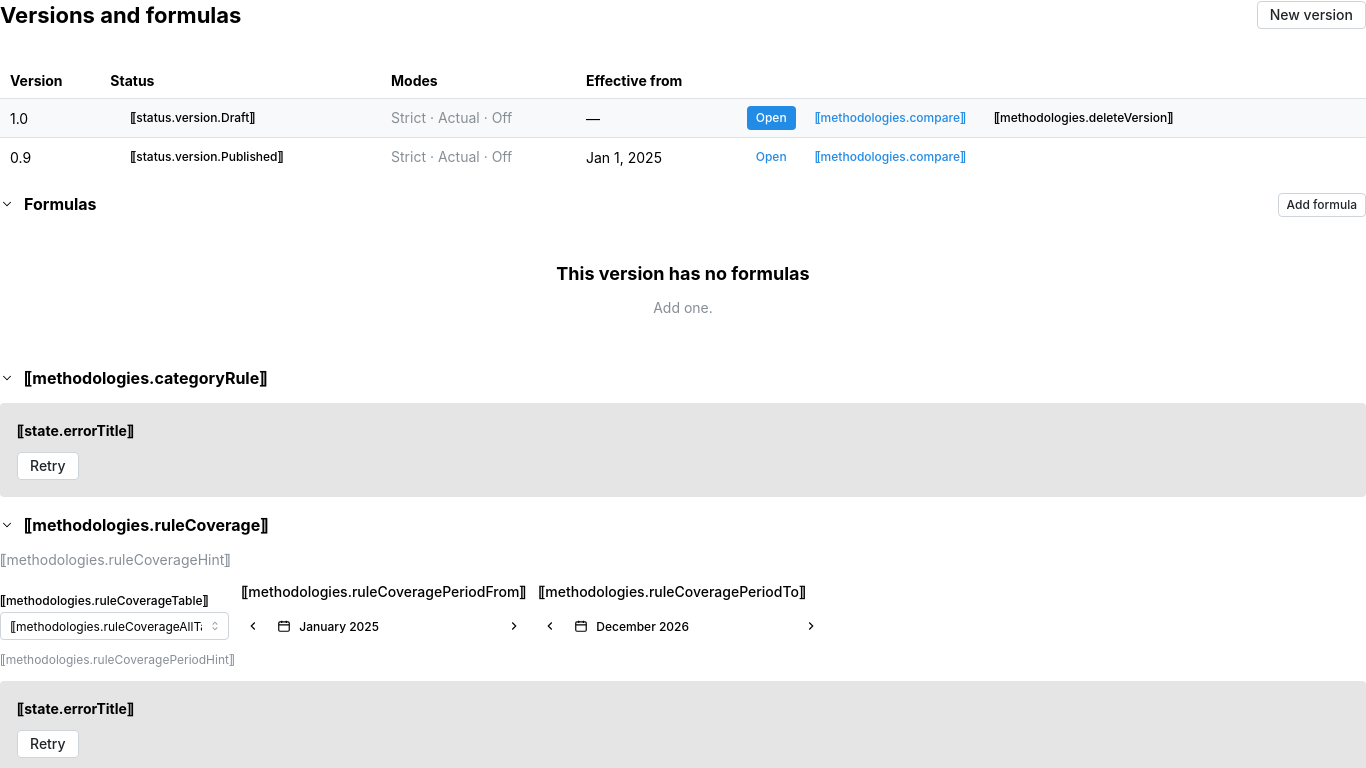
Test: MethodologyVersionsPage: відмова читання не виглядає як «нічого не заведено» › одиниці приїхали — перелік доступний, і банера в діалозі формули немає
Expected: the text "1.0" is shown, left=0, top=99, right=100, bottom=138
Click the button "Add formula": (1322, 205) left=1278, top=193, right=1365, bottom=217
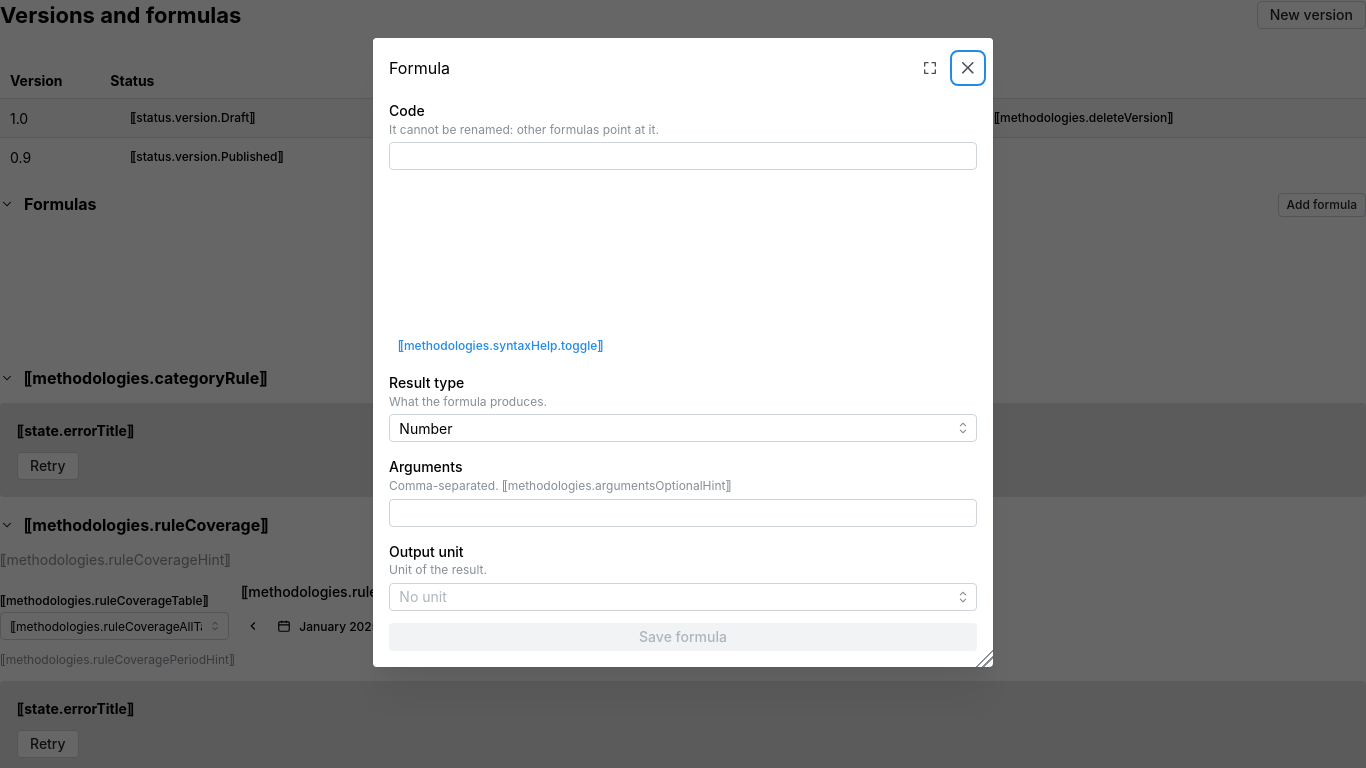
Now the field labelled "Output unit" is enabled, box left=389, top=583, right=977, bottom=611
